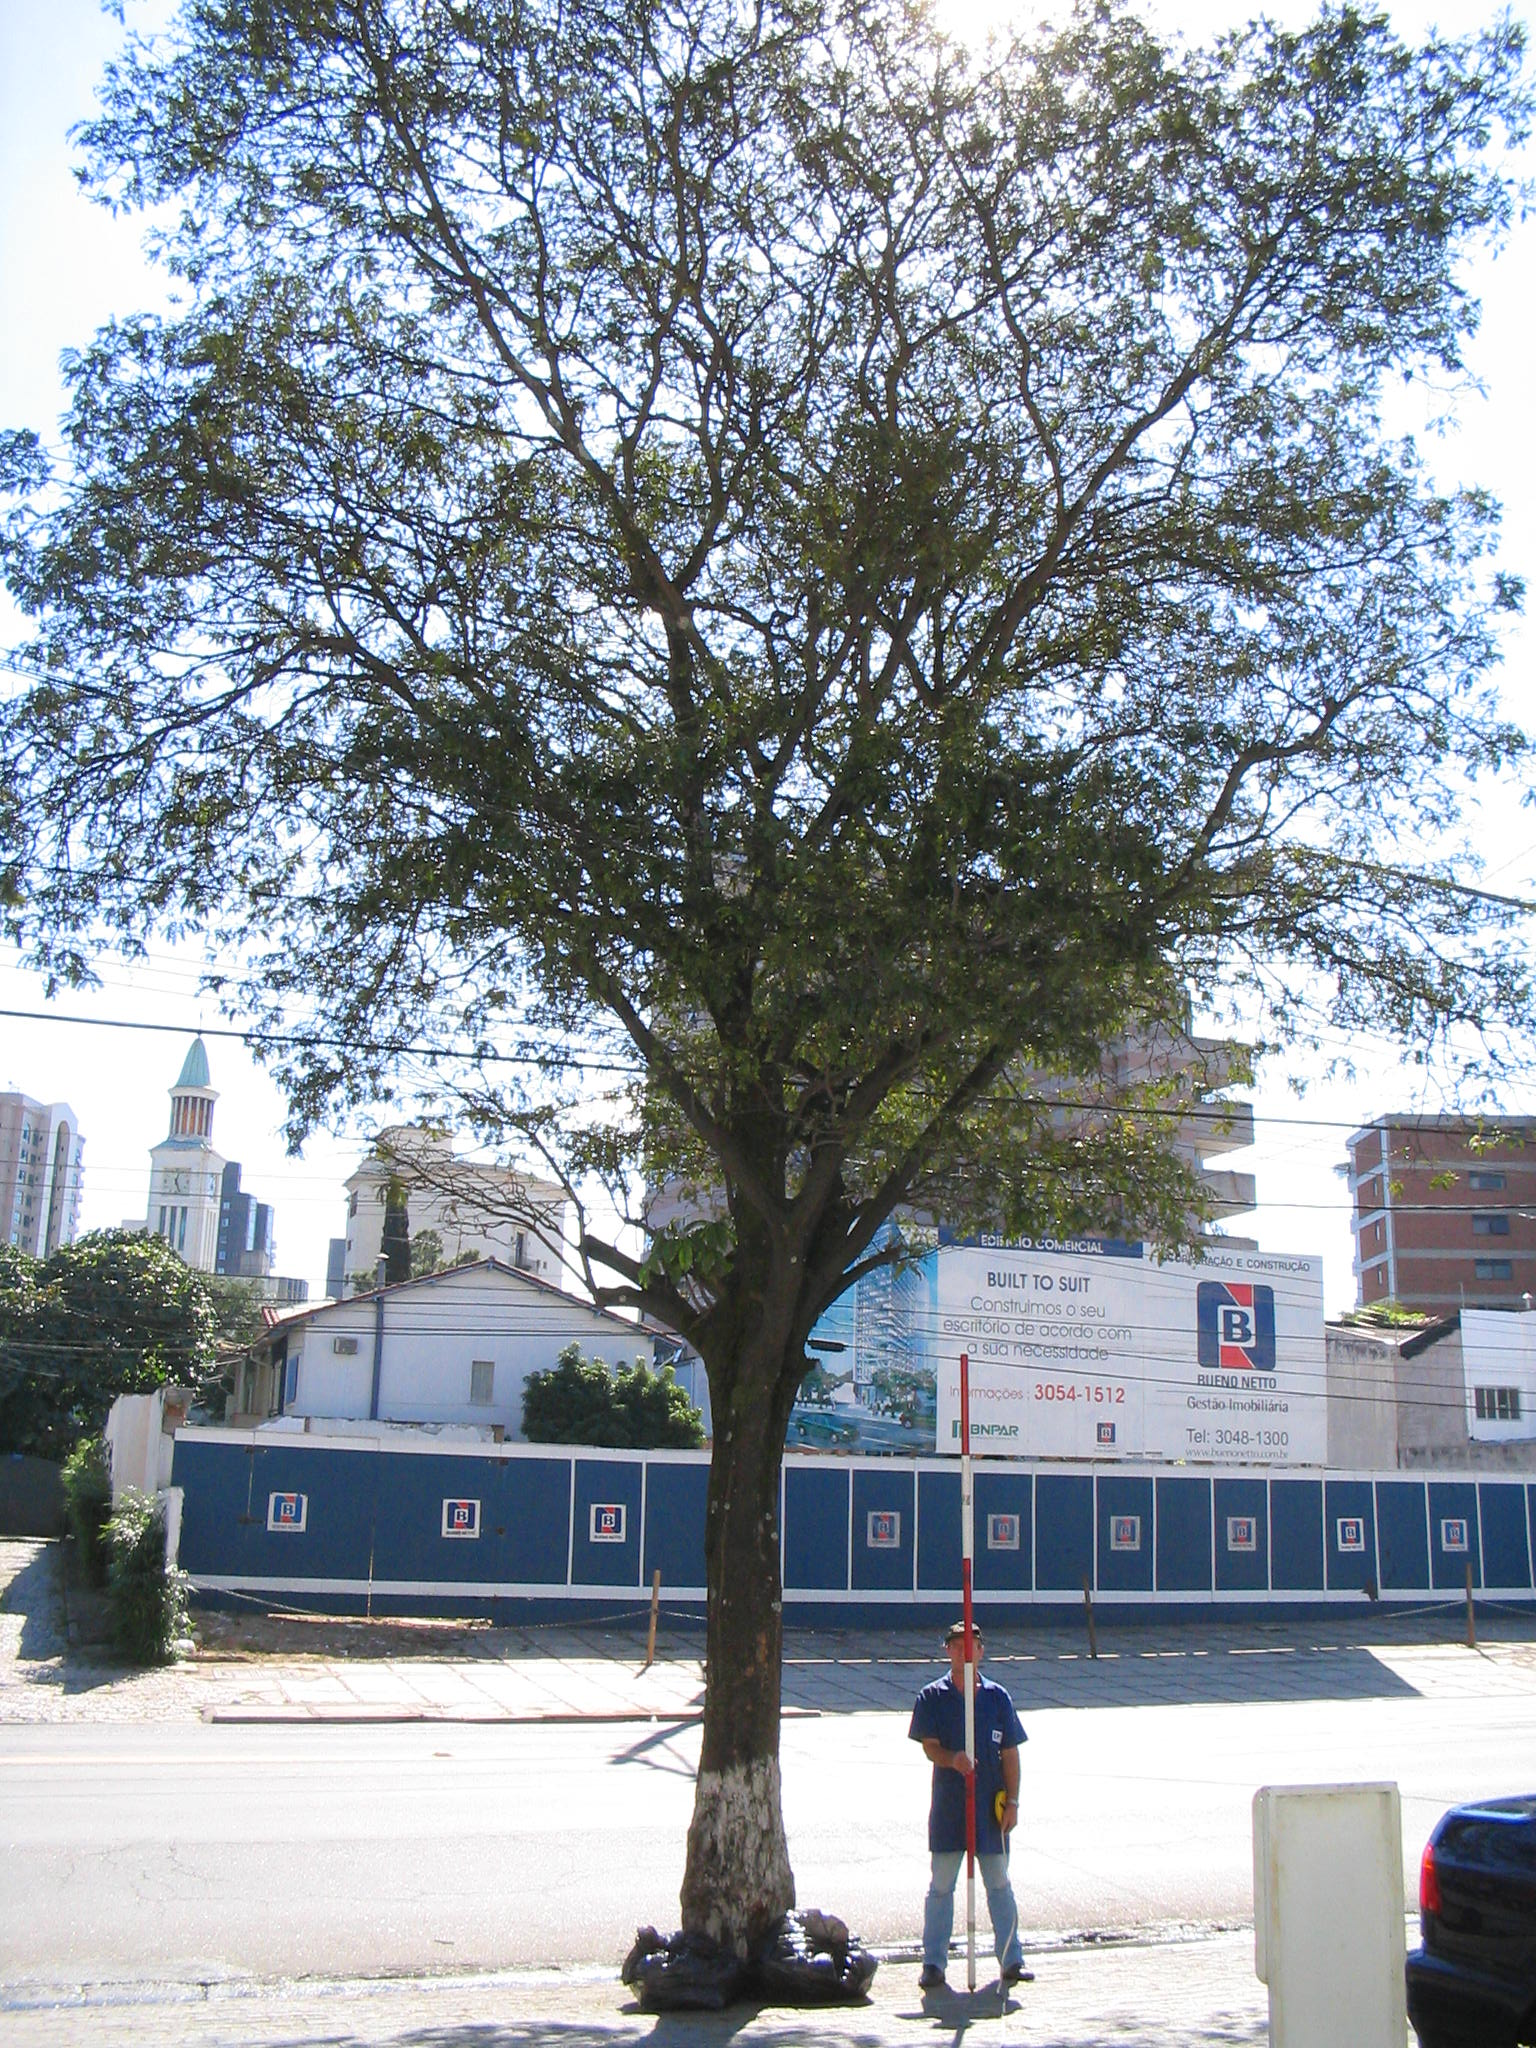crown: (11, 11, 1517, 1340)
stem: (644, 1347, 865, 1990)
stick: (945, 1353, 994, 1990)
tree: (3, 5, 1528, 1996)
